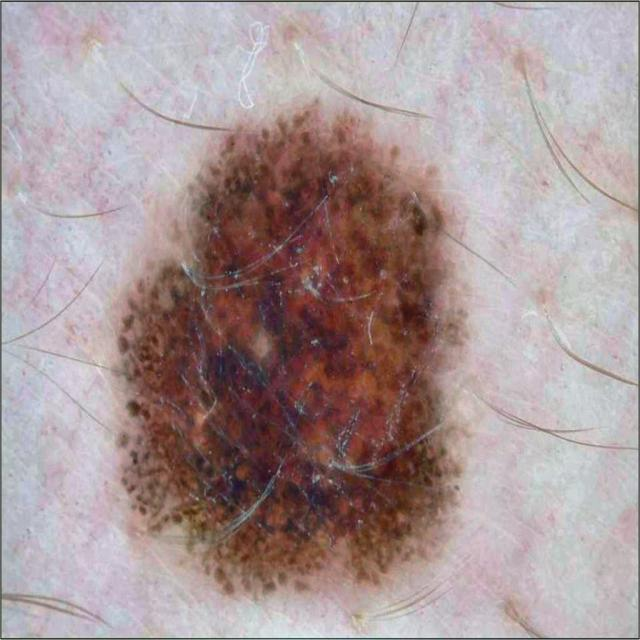Melanocytic-Nevi-NV-: (120, 107, 458, 572)
